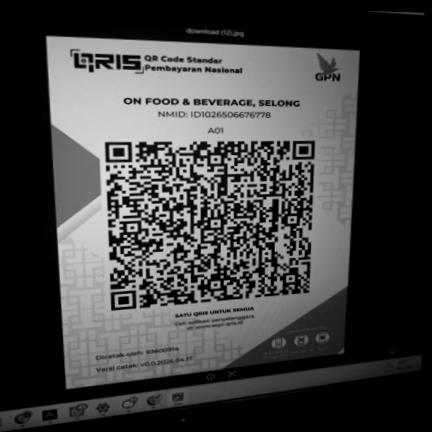Cara Pakai QRIS: (260, 321, 345, 363)
Cek Aplikasi Penyelenggara: (171, 312, 260, 335)
Dicetak Oleh: (92, 343, 185, 363)
Logo GPN: (310, 50, 348, 88)
Logo dan deskripsi QRIS: (66, 44, 248, 82)
Nama Merchant: (119, 94, 304, 109)
National Merchant ID: (150, 108, 279, 122)
QR Code: (96, 137, 323, 315)
Slogan: (171, 304, 259, 319)
Terminal ID: (205, 125, 228, 135)
Versi Cetak: (92, 353, 195, 377)
